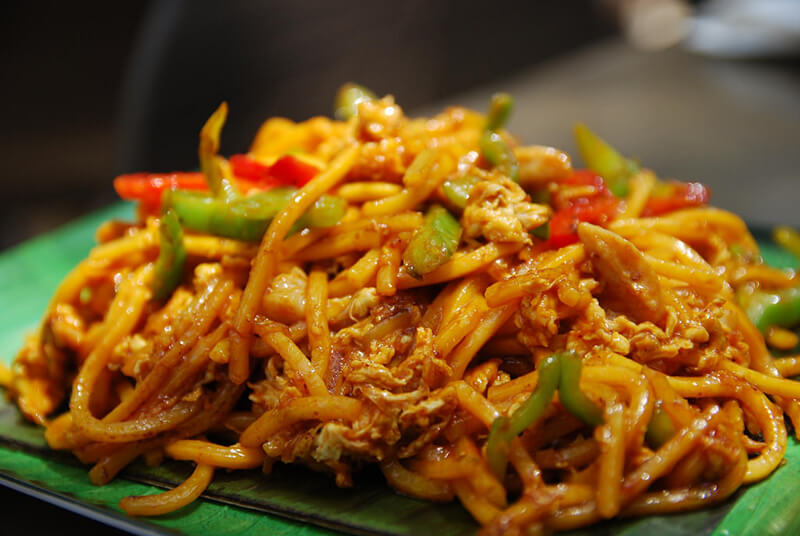Mie: (70, 95, 744, 533)
